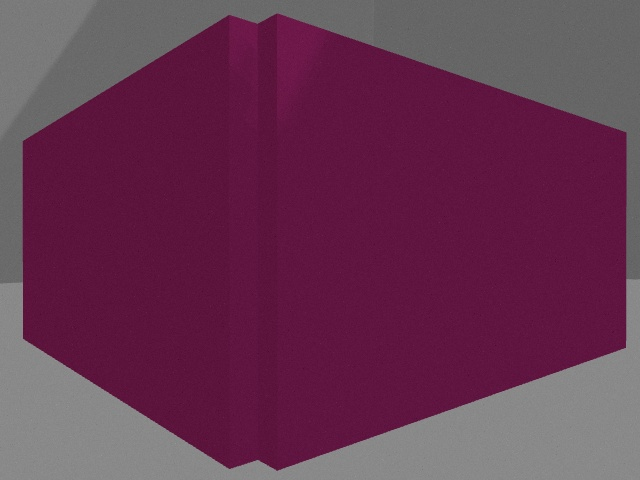red_drop_zone: (23, 14, 627, 470)
